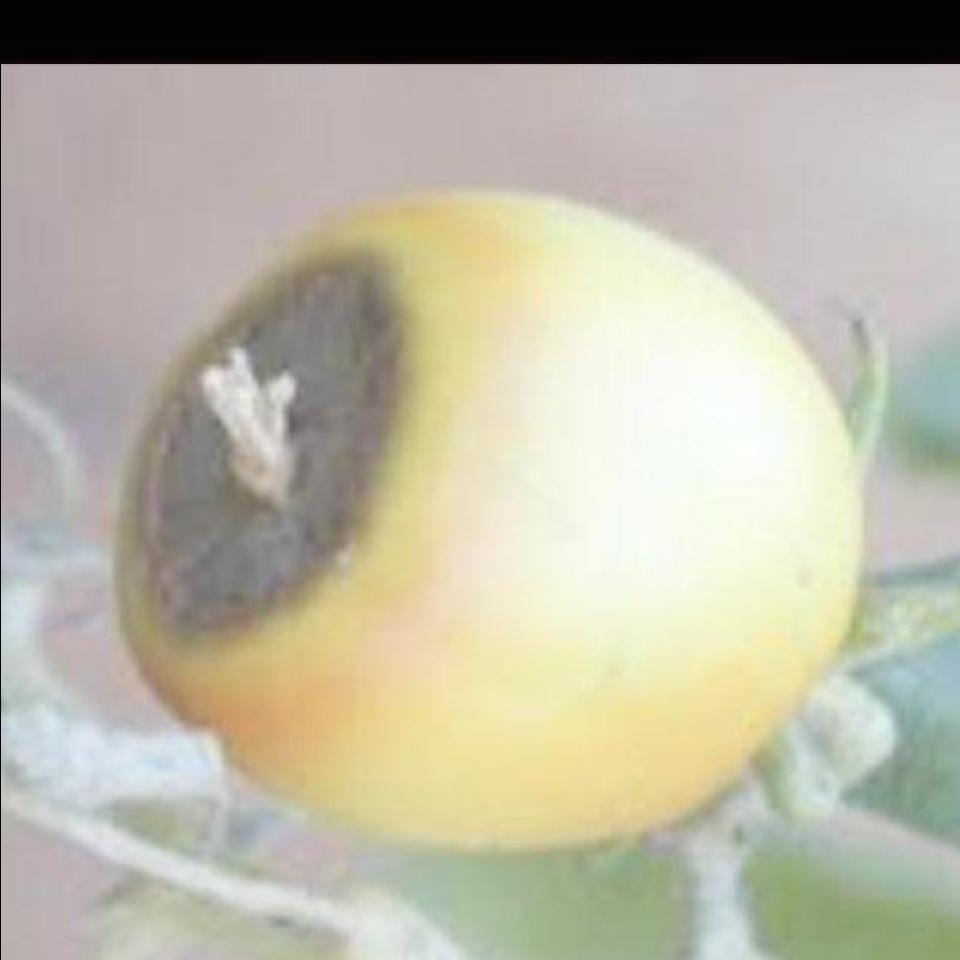Blossom_end_rot: (133, 242, 431, 656)
